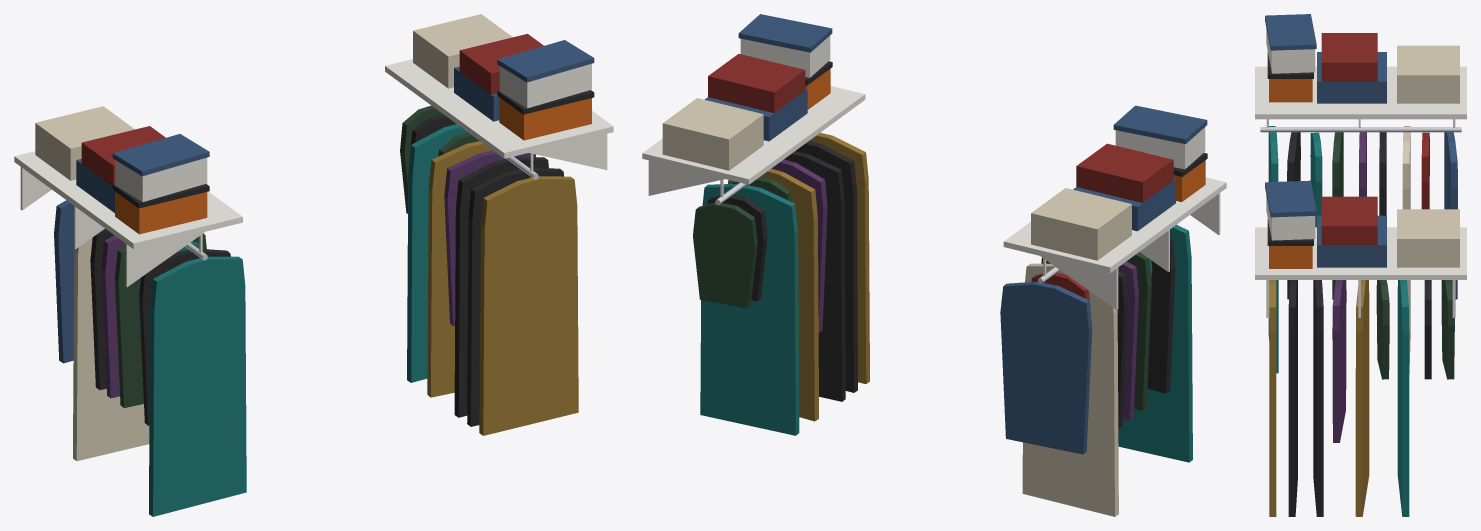
Rendered from closet-shelves.glb.
The picture shows the model from 3 angles, left to right: view 1: azimuth 30°, elevation 25°; view 2: azimuth 150°, elevation 25°; view 3: azimuth 270°, elevation 25°; orthographic projection. The views are drawn at different scales.
Parts seen in each view (by area): view 1: closet-shelves; view 2: closet-shelves; view 3: closet-shelves.
Part boxes in pixels (<box>): closet-shelves: <box>14,14,613,516</box>; closet-shelves: <box>642,14,1226,516</box>; closet-shelves: <box>1255,14,1466,516</box>.
Size of the model in its own units: 7.04 by 4.91 by 3.03.
